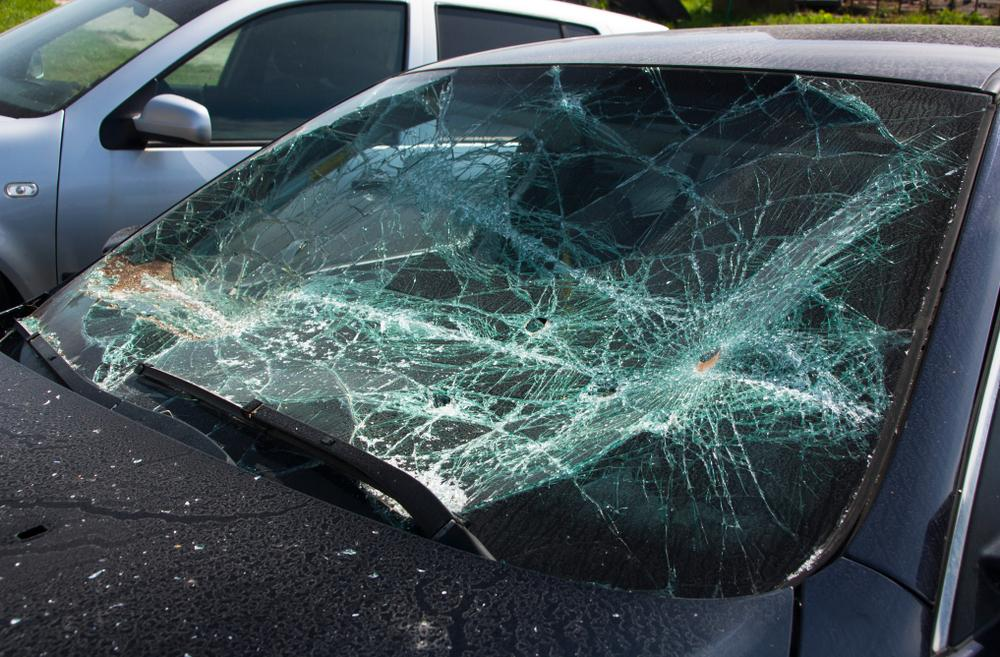glass shatter: (27, 65, 987, 598)
